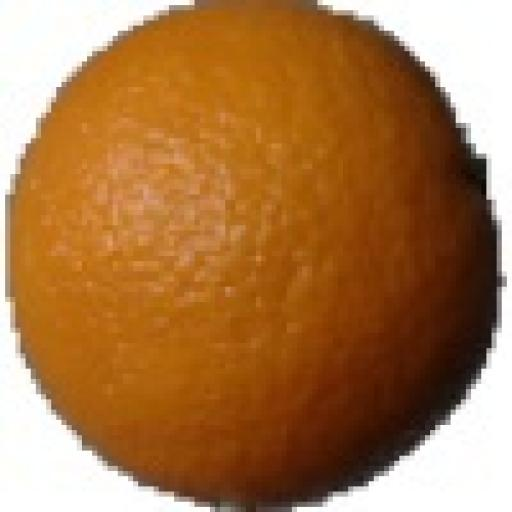orange: (11, 6, 496, 501)
